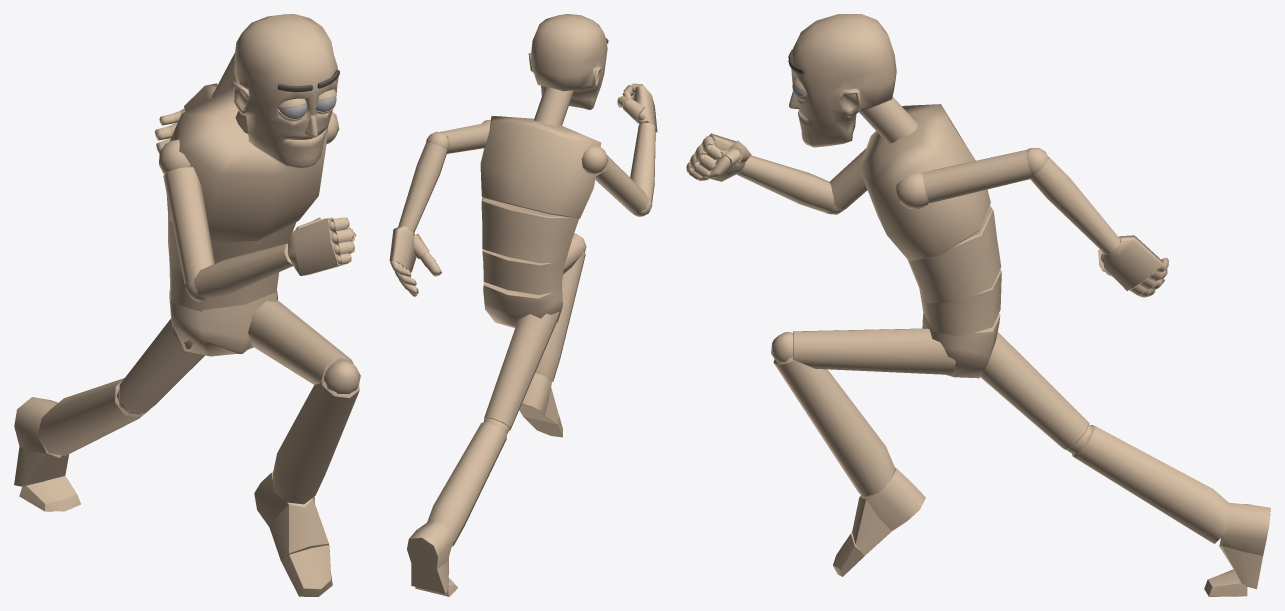
The model's file is running.fbx.
The picture shows the model from 3 angles, left to right: view 1: azimuth 30°, elevation 25°; view 2: azimuth 150°, elevation 25°; view 3: azimuth 270°, elevation 25°; orthographic projection. The views are drawn at different scales.
Parts seen in each view (by area): view 1: Max_Hierarchy_Rig:Head, Max_Hierarchy_Rig:Torso_3, Max_Hierarchy_Rig:Leg_Lower_L, Max_Hierarchy_Rig:Leg_Lower_R, Max_Hierarchy_Rig:Leg_Upper_L, Max_Hierarchy_Rig:Arm_Upper_R, Max_Hierarchy_Rig:Torso_0, Max_Hierarchy_Rig:Leg_Upper_R, Max_Hierarchy_Rig:Foot_L, Max_Hierarchy_Rig:Arm_Lower_R, Max_Hierarchy_Rig:Foot_R, Max_Hierarchy_Rig:Palm_R (+4 smaller); view 2: Max_Hierarchy_Rig:Torso_3, Max_Hierarchy_Rig:Head, Max_Hierarchy_Rig:Torso_2, Max_Hierarchy_Rig:Leg_Lower_R, Max_Hierarchy_Rig:Leg_Upper_R, Max_Hierarchy_Rig:Torso_1, Max_Hierarchy_Rig:Foot_R, Max_Hierarchy_Rig:Arm_Lower_L, Max_Hierarchy_Rig:Torso_0, Max_Hierarchy_Rig:Arm_Upper_R, Max_Hierarchy_Rig:Leg_Lower_L, Max_Hierarchy_Rig:Arm_Lower_R (+7 smaller); view 3: Max_Hierarchy_Rig:Torso_3, Max_Hierarchy_Rig:Head, Max_Hierarchy_Rig:Leg_Lower_R, Max_Hierarchy_Rig:Leg_Lower_L, Max_Hierarchy_Rig:Leg_Upper_L, Max_Hierarchy_Rig:Leg_Upper_R, Max_Hierarchy_Rig:Torso_2, Max_Hierarchy_Rig:Arm_Upper_L, Max_Hierarchy_Rig:Arm_Lower_L, Max_Hierarchy_Rig:Foot_L, Max_Hierarchy_Rig:Foot_R, Max_Hierarchy_Rig:Arm_Lower_R (+6 smaller).
Part boxes in pixels (x1=…): Max_Hierarchy_Rig:Head: x1=231, y1=14, x2=339, y2=168; Max_Hierarchy_Rig:Torso_3: x1=166, y1=88, x2=328, y2=243; Max_Hierarchy_Rig:Leg_Lower_L: x1=272, y1=360, x2=360, y2=504; Max_Hierarchy_Rig:Leg_Lower_R: x1=38, y1=378, x2=148, y2=455; Max_Hierarchy_Rig:Leg_Upper_L: x1=248, y1=299, x2=353, y2=384; Max_Hierarchy_Rig:Arm_Upper_R: x1=159, y1=139, x2=214, y2=284; Max_Hierarchy_Rig:Torso_0: x1=169, y1=289, x2=277, y2=356; Max_Hierarchy_Rig:Leg_Upper_R: x1=119, y1=318, x2=204, y2=413; Max_Hierarchy_Rig:Foot_L: x1=254, y1=471, x2=328, y2=560; Max_Hierarchy_Rig:Arm_Lower_R: x1=185, y1=243, x2=292, y2=301; Max_Hierarchy_Rig:Foot_R: x1=14, y1=397, x2=68, y2=486; Max_Hierarchy_Rig:Palm_R: x1=287, y1=217, x2=343, y2=275; Max_Hierarchy_Rig:Torso_3: x1=480, y1=116, x2=601, y2=218; Max_Hierarchy_Rig:Head: x1=528, y1=14, x2=608, y2=109; Max_Hierarchy_Rig:Torso_2: x1=481, y1=197, x2=578, y2=263; Max_Hierarchy_Rig:Leg_Lower_R: x1=427, y1=418, x2=509, y2=546; Max_Hierarchy_Rig:Leg_Upper_R: x1=484, y1=311, x2=559, y2=430; Max_Hierarchy_Rig:Torso_1: x1=482, y1=249, x2=564, y2=294; Max_Hierarchy_Rig:Foot_R: x1=407, y1=521, x2=453, y2=593; Max_Hierarchy_Rig:Arm_Lower_L: x1=398, y1=131, x2=449, y2=233; Max_Hierarchy_Rig:Torso_0: x1=483, y1=282, x2=562, y2=327; Max_Hierarchy_Rig:Arm_Upper_R: x1=581, y1=145, x2=649, y2=213; Max_Hierarchy_Rig:Leg_Lower_L: x1=535, y1=233, x2=586, y2=381; Max_Hierarchy_Rig:Arm_Lower_R: x1=630, y1=122, x2=655, y2=216; Max_Hierarchy_Rig:Torso_3: x1=859, y1=104, x2=990, y2=260; Max_Hierarchy_Rig:Head: x1=788, y1=14, x2=896, y2=147; Max_Hierarchy_Rig:Leg_Lower_R: x1=1067, y1=425, x2=1229, y2=543; Max_Hierarchy_Rig:Leg_Lower_L: x1=771, y1=332, x2=895, y2=496; Max_Hierarchy_Rig:Leg_Upper_L: x1=793, y1=328, x2=955, y2=374; Max_Hierarchy_Rig:Leg_Upper_R: x1=980, y1=332, x2=1089, y2=449; Max_Hierarchy_Rig:Torso_2: x1=907, y1=205, x2=1001, y2=302; Max_Hierarchy_Rig:Arm_Upper_L: x1=896, y1=150, x2=1032, y2=209; Max_Hierarchy_Rig:Arm_Lower_L: x1=1026, y1=148, x2=1120, y2=254; Max_Hierarchy_Rig:Foot_L: x1=852, y1=467, x2=925, y2=555; Max_Hierarchy_Rig:Foot_R: x1=1219, y1=502, x2=1270, y2=589; Max_Hierarchy_Rig:Arm_Lower_R: x1=736, y1=155, x2=844, y2=214.
Size of what is drawn, in the model's own units: 53.2 by 160 by 146.
